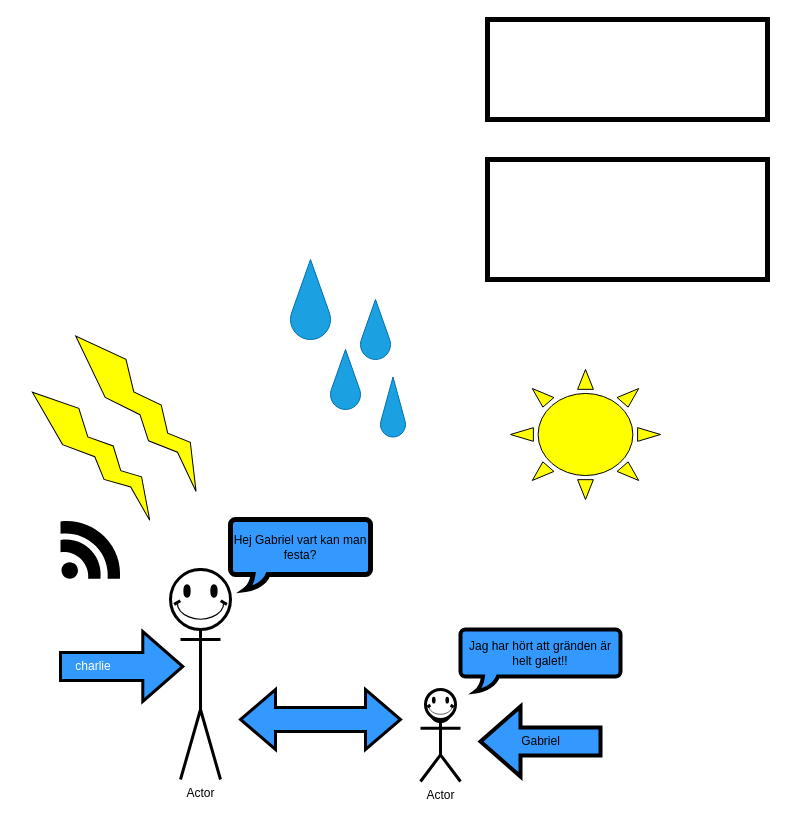
The diagram is 787 pixels wide and 820 high, and some of its shapes have lost their labels. The shapes that lost their labels are listed below. From the top down, each one's centre as x and y in pixels, then its label:
At point 627,69: "Min hemsida".
At point 627,219: "GRÄNDEN".
At point 320,719: "KIINGZZ".
